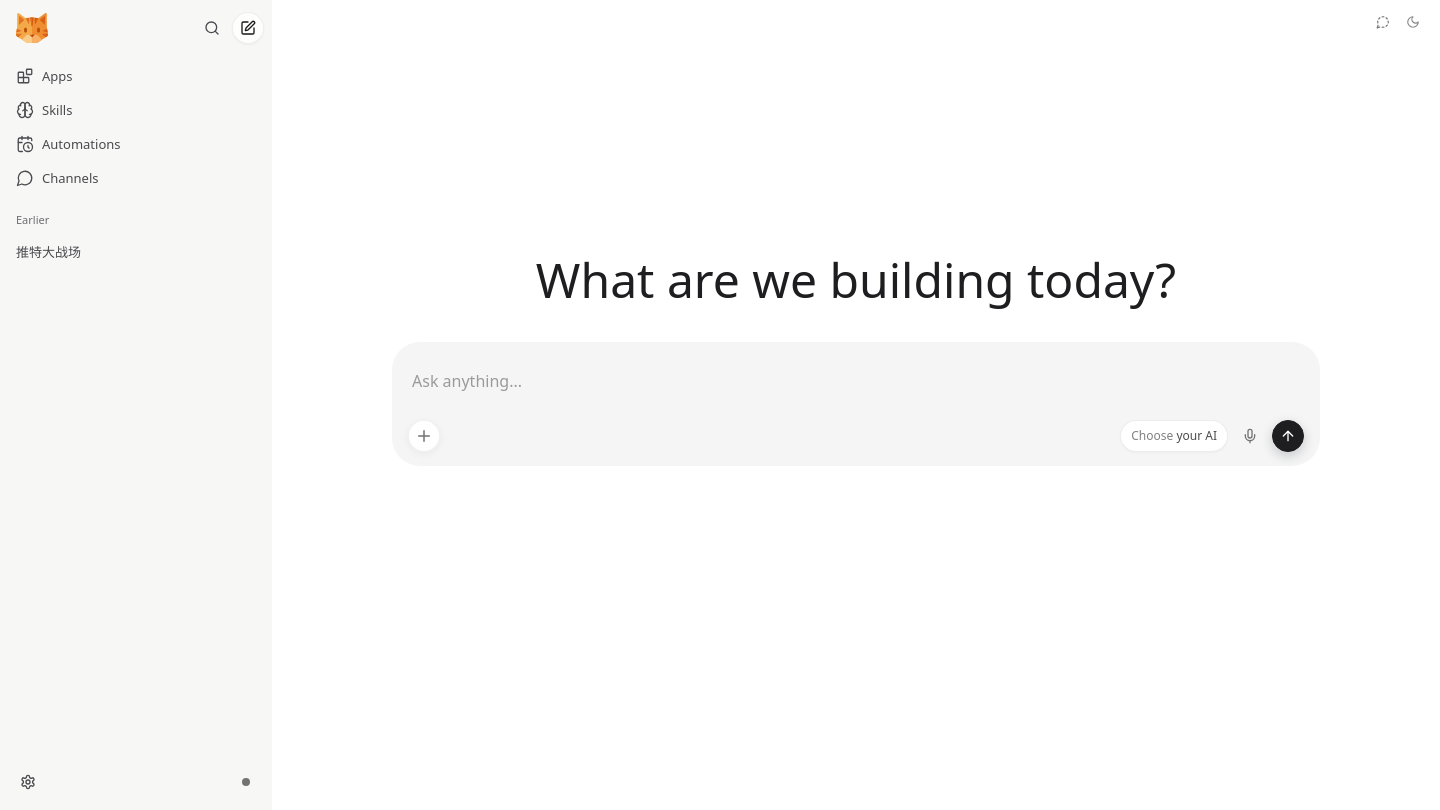
Test: App layout › keeps the automation chat link stable across live sidebar renames without duplicating titles
Expected: the button "推特大战场" is shown, left=16, top=236, right=208, bottom=268
Click the button "Automations".
click(136, 144)  # box left=8, top=128, right=264, bottom=160
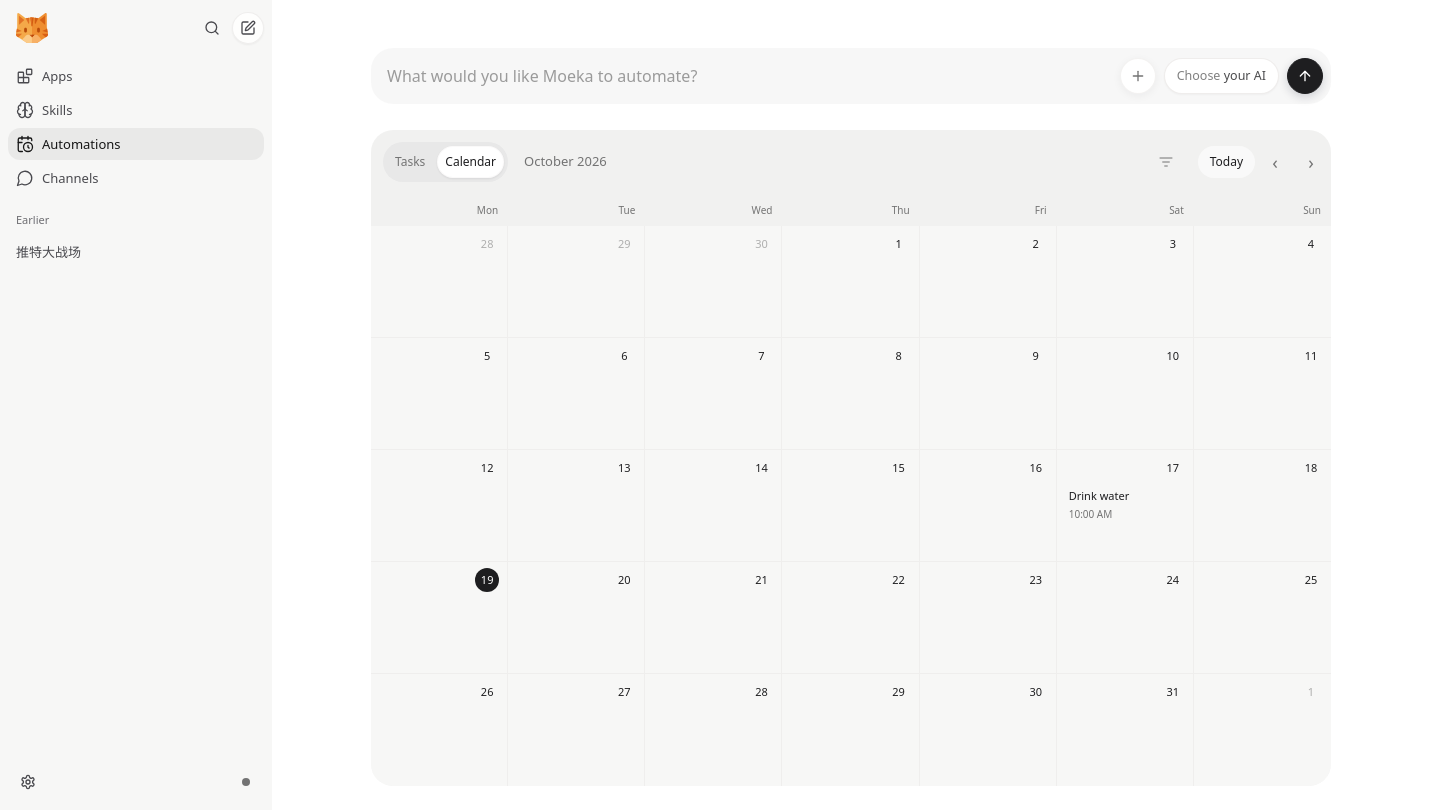
Click the button "Drink water 10:00 AM".
click(1125, 505)  # box left=1061, top=482, right=1189, bottom=528
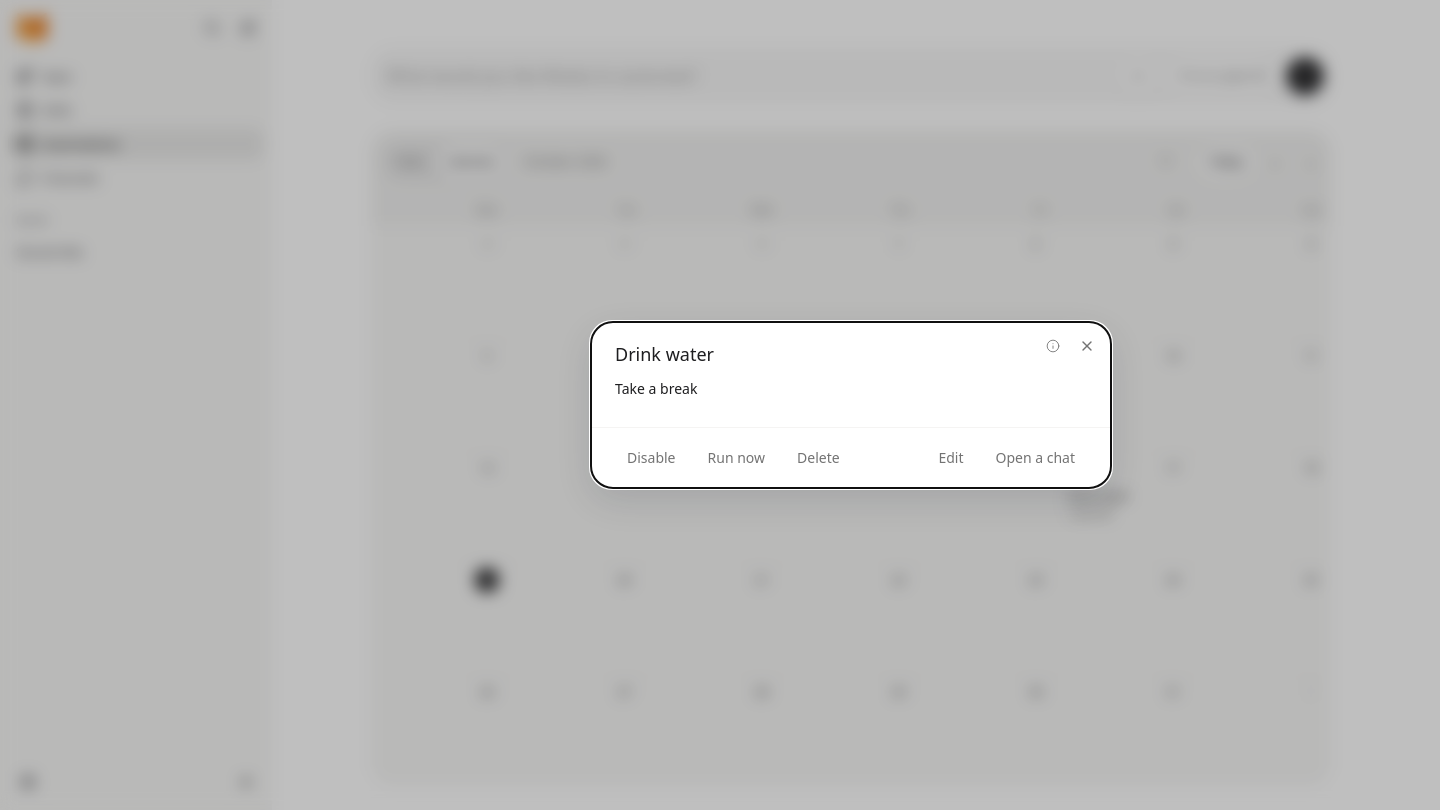
Expected: the button "推特大战场" is gone
